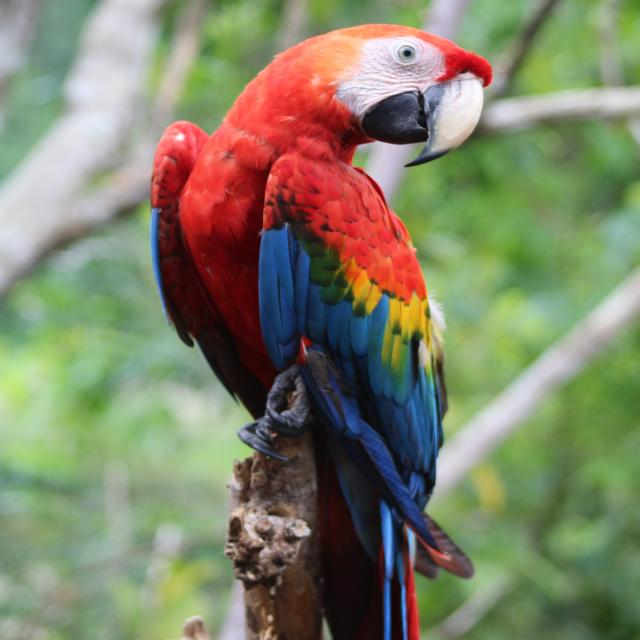Parrot: (147, 24, 496, 640)
